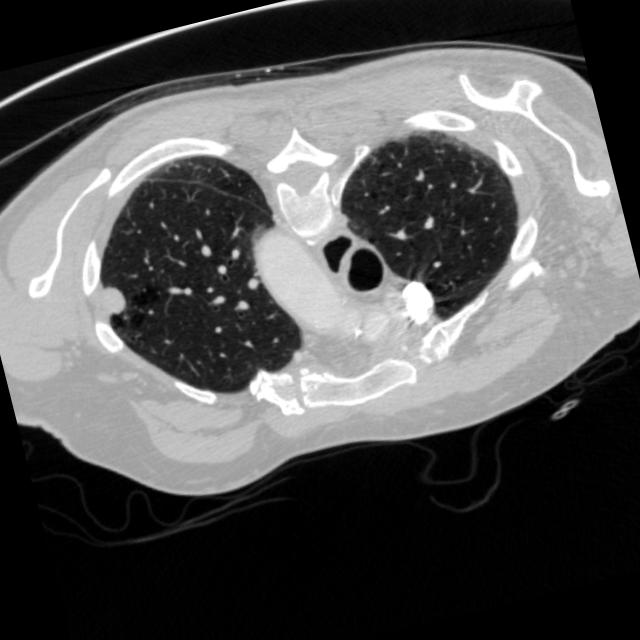nodule: (80, 268, 147, 336)
